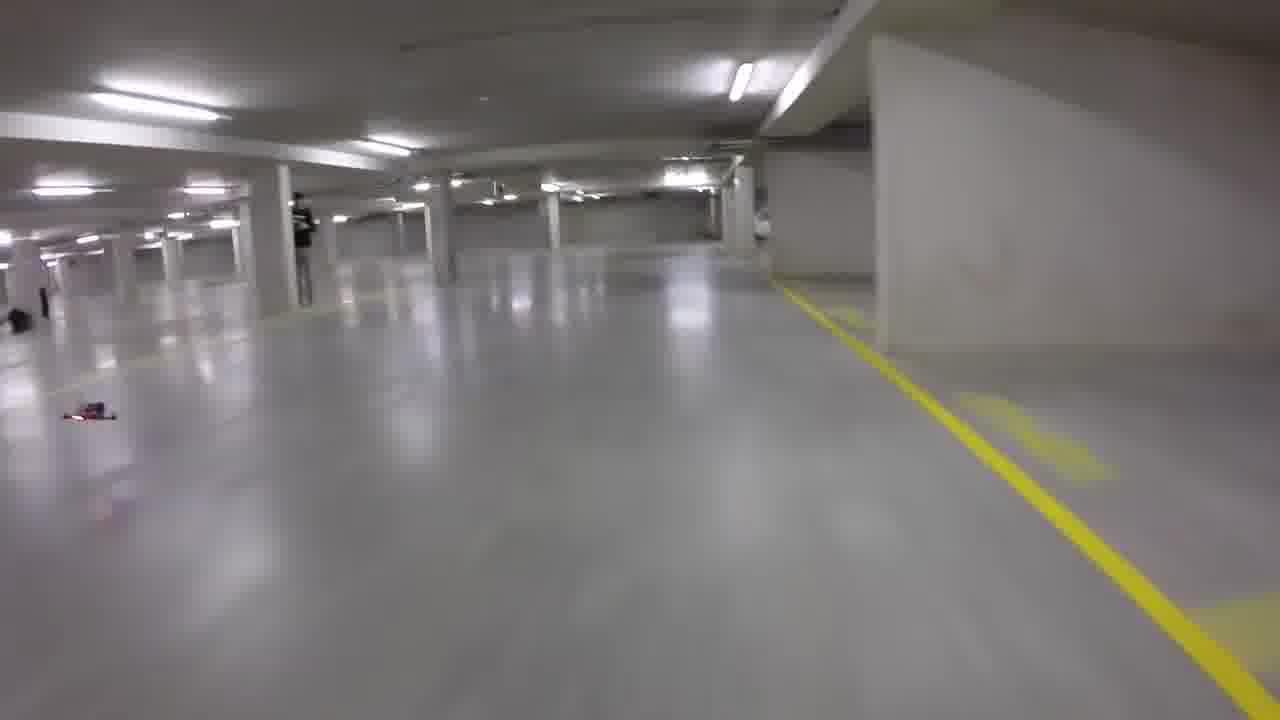drone: (56, 391, 128, 432)
